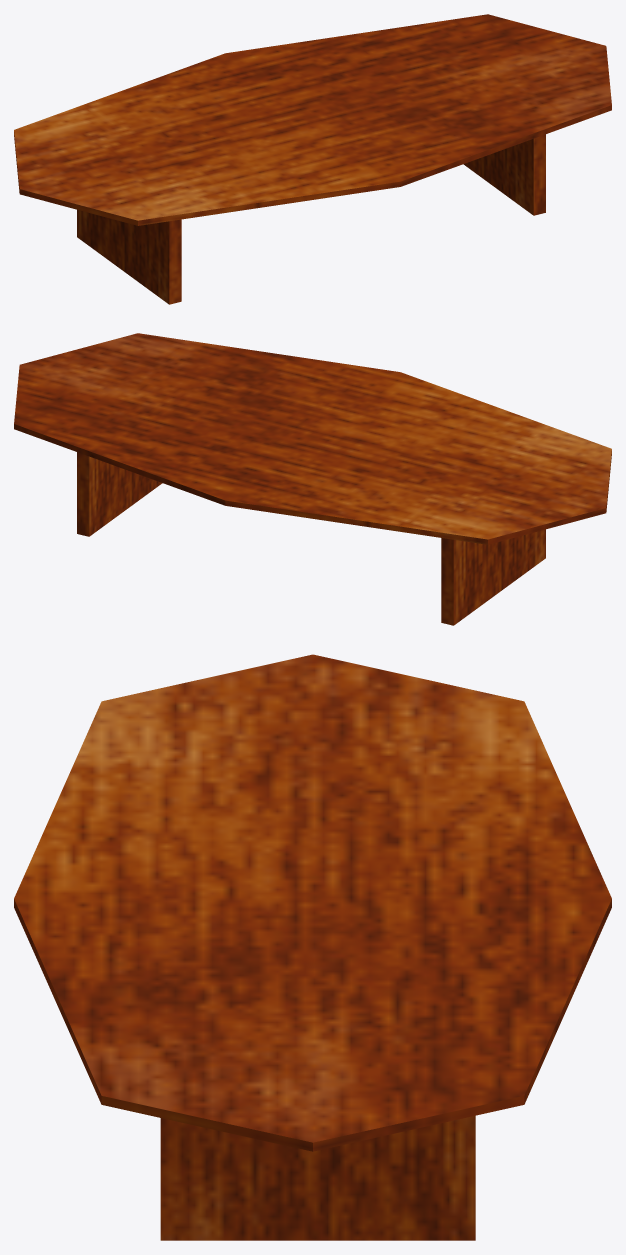
File: conference_desk.fbx
The picture shows the model from 3 angles, top to bottom: view 1: azimuth 30°, elevation 25°; view 2: azimuth 150°, elevation 25°; view 3: azimuth 270°, elevation 25°; orthographic projection. The views are drawn at different scales.
Visible parts, largest first — view 1: conference_desk; view 2: conference_desk; view 3: conference_desk.
Part boxes in pixels (bbox=[...]): conference_desk: bbox=[14, 14, 611, 304]; conference_desk: bbox=[14, 333, 611, 625]; conference_desk: bbox=[14, 654, 611, 1240].
Size of the model in its own units: 497 by 87.97 by 257.
